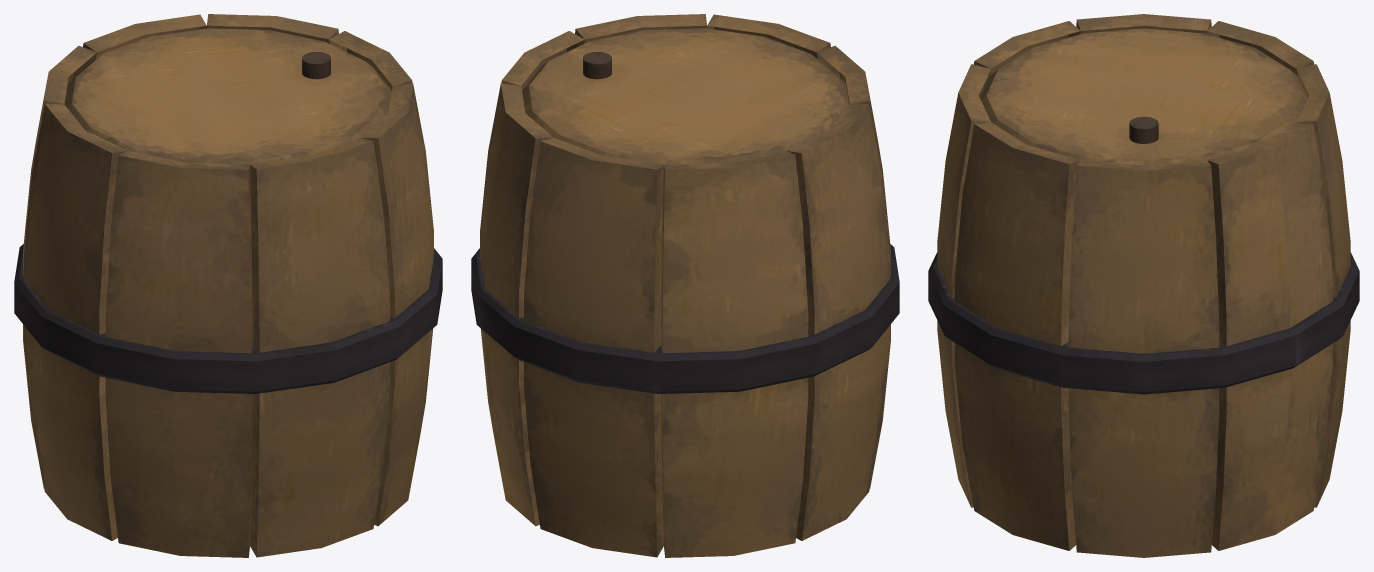
File: WoodenBarrel.fbx
3 renders of one model, left to right at view 1: azimuth 30°, elevation 25°; view 2: azimuth 150°, elevation 25°; view 3: azimuth 270°, elevation 25°, orthographic.
Visible parts, largest first — view 1: barrel_low; view 2: barrel_low; view 3: barrel_low.
Part boxes in pixels (<box>): barrel_low: <box>14,14,442,557</box>; barrel_low: <box>471,14,899,557</box>; barrel_low: <box>928,14,1359,557</box>.
Size of the model in its own units: 208 by 213 by 208.
